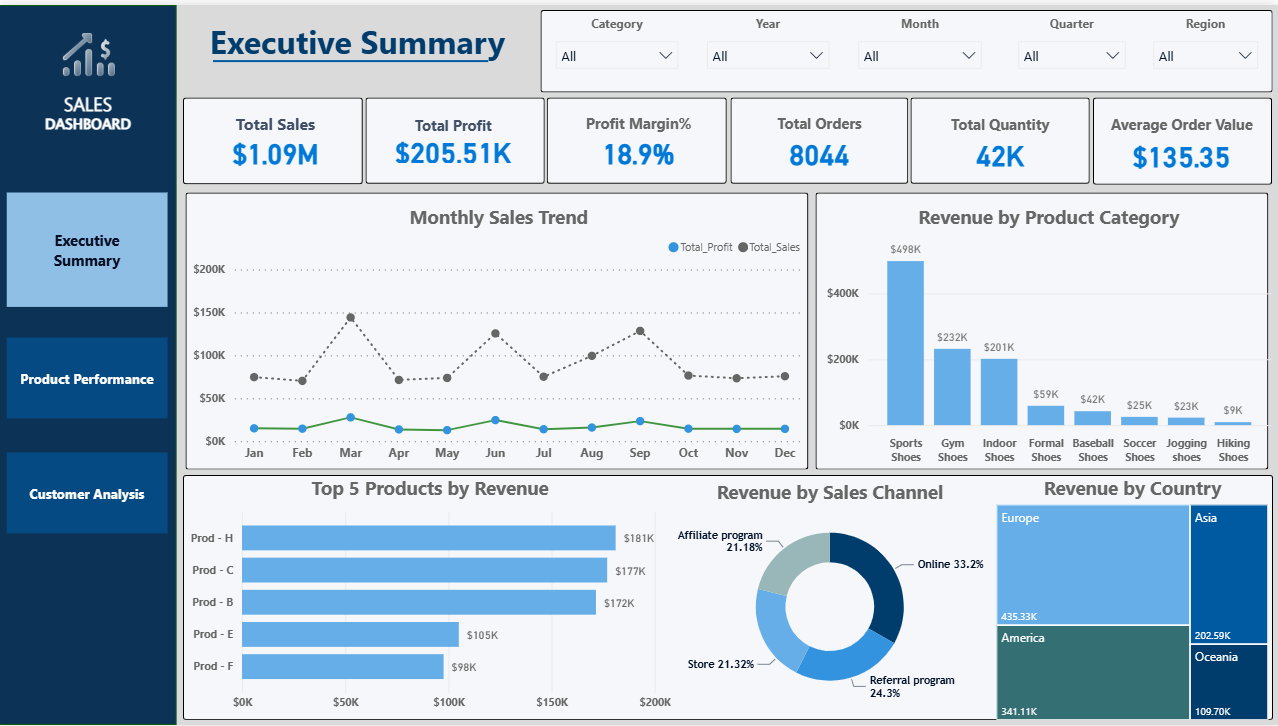

The page's visual inventory and layout, read from the dashboard file:
{"tool":"powerbi","page":{"name":"Executive Summary","canvas":[1280,720],"ordinal":0},"visuals":[{"type":"shape","title":"Shape","box":[367.1,93.1,179.2,86.2],"z":0},{"type":"shape","title":"Shape","box":[184.5,92.9,179.7,86.8],"z":1000},{"type":"shape","title":"Shape","box":[912.5,93.1,179.2,86.2],"z":2000},{"type":"shape","title":"Shape","box":[1094.5,92.7,179.1,87.3],"z":3000},{"type":"shape","title":"Shape","box":[549.1,93.1,180,86.2],"z":4000},{"type":"shape","title":"Shape","box":[732,93.1,177.7,86.2],"z":5000},{"type":"shape","title":"Product Category Shape","box":[817.1,187.1,452.9,277.1],"z":6000},{"type":"shape","box":[542.8,5.1,732.2,82.6],"z":7000},{"type":"shape","title":"Monthly Trend Shape","box":[187.1,187.1,622.9,277.1],"z":8000},{"type":"shape","title":"Large Shape","box":[185,470,1090,245],"z":9000},{"type":"card","title":"Total Sales","fields":{"Values":["All Measures.Total_Sales"]},"box":[197.6,107.1,160,58.4],"z":10000},{"type":"card","title":"Total Profit","fields":{"Values":["All Measures.Total_Profit"]},"box":[378.4,109.9,153,52.9],"z":11000},{"type":"card","title":"Profit Margin%","fields":{"Values":["All Measures.Profit_Margin %"]},"box":[567.7,107.1,146.1,61.2],"z":12000},{"type":"card","title":"Total Orders","fields":{"Values":["All Measures.Number of Orders"]},"box":[752.7,107.1,137.7,62.6],"z":13000},{"type":"lineChart","title":"Monthly Sales Trend","fields":{"Y":["All Measures.Total_Profit","All Measures.Total_Sales"],"Category":["Date table.Month"]},"box":[190,198.6,621.4,267.1],"z":14000},{"type":"clusteredColumnChart","title":"Revenue by Product Category","fields":{"Y":["All Measures.Total_Sales"],"Category":["Products Details.Products Category"]},"box":[824.3,198.6,454.3,268.6],"z":15000},{"type":"donutChart","title":"Revenue by Sales Channel","fields":{"Y":["All Measures.Total_Sales"],"Category":["Sales Channel Details.Sales Channel"]},"box":[665.7,474.3,331.4,231.4],"z":16000},{"type":"treemap","title":"Revenue by Country","fields":{"Group":["Location Details.Geographic Region"],"Values":["Sum(Sales Data.Final Sales Price)"]},"box":[994.3,470,281.4,250],"z":17000},{"type":"barChart","title":"Top 5 Products by Revenue","fields":{"Category":["Products Details.Product Name"],"Y":["All Measures.Total_Sales"]},"box":[186.7,470,491.7,245],"z":18000},{"type":"shape","box":[0,0,178.6,720],"z":19000},{"type":"textbox","box":[200,10,318.6,64.3],"z":20000},{"type":"slicer","title":"Year","fields":{"Values":["Date table.Year"]},"box":[698.8,10,142.5,72.5],"z":21000},{"type":"slicer","title":"Quarter","fields":{"Values":["Date table.Quarter"]},"box":[1010,10,127.5,71.2],"z":22000},{"type":"slicer","title":"Month","fields":{"Values":["Date table.Month"]},"box":[850,10,143.8,72.5],"z":23000},{"type":"slicer","title":"Region","fields":{"Values":["Location Details.Geographic Region"]},"box":[1145,10,125,70],"z":24000},{"type":"slicer","title":"Category","fields":{"Values":["Products Details.Products Category"]},"box":[547.1,10,142.9,70],"z":25000},{"type":"card","title":"Total Quantity","fields":{"Values":["All Measures.Total_Quantity"]},"box":[937.7,108.5,129.4,62.6],"z":26000},{"type":"image","box":[42.9,18.6,94.3,64.3],"z":27000},{"type":"textbox","box":[10,81.4,160,47.1],"z":28000},{"type":"textbox","box":[10,104.3,160,47.1],"z":29000},{"type":"shape","box":[215.1,37.2,275.5,37.2],"z":30000},{"type":"card","title":"Average Order Value","fields":{"Values":["All Measures.Average Order Value"]},"box":[1103.3,108.5,160,64],"z":31000},{"type":"actionButton","title":"Executive Summary","box":[8.4,332.9,160.4,80.8],"z":32000},{"type":"actionButton","title":"Executive Summary","box":[8.4,186.9,160.4,114.6],"z":33000},{"type":"actionButton","title":"Executive Summary","box":[8.4,447.4,160.4,80.8],"z":34000}]}

Visuals, with their boxes in screenshot pixels (x1, y1, x2, y2), scaled from the page's 1280x720 canvas onto the 1278x726 screenshot:
"Shape" shape: (left=367, top=94, right=545, bottom=181)
"Shape" shape: (left=184, top=94, right=364, bottom=181)
"Shape" shape: (left=911, top=94, right=1090, bottom=181)
"Shape" shape: (left=1093, top=93, right=1272, bottom=182)
"Shape" shape: (left=548, top=94, right=728, bottom=181)
"Shape" shape: (left=731, top=94, right=908, bottom=181)
"Product Category Shape" shape: (left=816, top=189, right=1268, bottom=468)
shape: (left=542, top=5, right=1273, bottom=88)
"Monthly Trend Shape" shape: (left=187, top=189, right=809, bottom=468)
"Large Shape" shape: (left=185, top=474, right=1273, bottom=721)
"Total Sales" card: (left=197, top=108, right=357, bottom=167)
"Total Profit" card: (left=378, top=111, right=531, bottom=164)
"Profit Margin%" card: (left=567, top=108, right=713, bottom=170)
"Total Orders" card: (left=752, top=108, right=889, bottom=171)
"Monthly Sales Trend" lineChart: (left=190, top=200, right=810, bottom=470)
"Revenue by Product Category" clusteredColumnChart: (left=823, top=200, right=1277, bottom=471)
"Revenue by Sales Channel" donutChart: (left=665, top=478, right=996, bottom=712)
"Revenue by Country" treemap: (left=993, top=474, right=1274, bottom=725)
"Top 5 Products by Revenue" barChart: (left=186, top=474, right=677, bottom=721)
shape: (left=0, top=0, right=178, bottom=725)
textbox: (left=200, top=10, right=518, bottom=75)
"Year" slicer: (left=698, top=10, right=840, bottom=83)
"Quarter" slicer: (left=1008, top=10, right=1136, bottom=82)
"Month" slicer: (left=849, top=10, right=992, bottom=83)
"Region" slicer: (left=1143, top=10, right=1268, bottom=81)
"Category" slicer: (left=546, top=10, right=689, bottom=81)
"Total Quantity" card: (left=936, top=109, right=1065, bottom=173)
image: (left=43, top=19, right=137, bottom=84)
textbox: (left=10, top=82, right=170, bottom=130)
textbox: (left=10, top=105, right=170, bottom=153)
shape: (left=215, top=38, right=490, bottom=75)
"Average Order Value" card: (left=1102, top=109, right=1261, bottom=174)
"Executive Summary" actionButton: (left=8, top=336, right=169, bottom=417)
"Executive Summary" actionButton: (left=8, top=188, right=169, bottom=304)
"Executive Summary" actionButton: (left=8, top=451, right=169, bottom=533)
